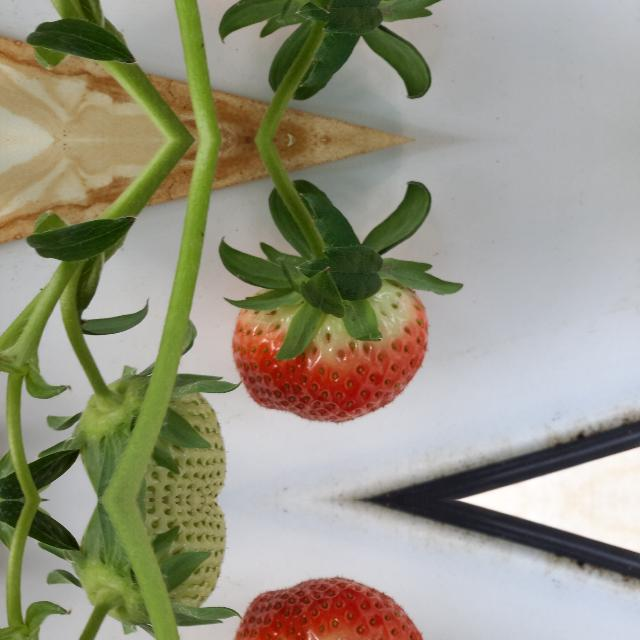Health_100: (230, 279, 430, 423), (230, 577, 429, 640)
Health_25: (77, 376, 227, 499), (77, 501, 227, 624)
